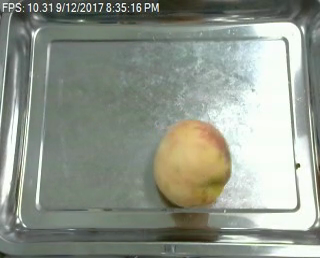Peach: (153, 118, 232, 208)
